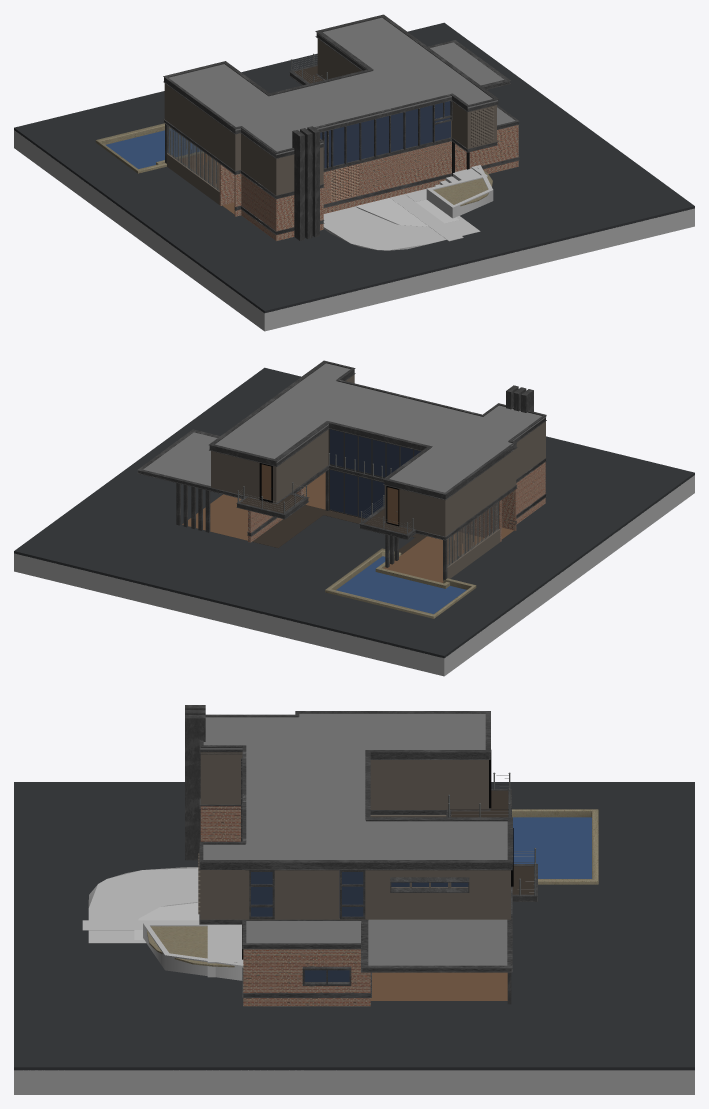
File: pool-villa.lod0.glb
3 views of the same model, one above another, from view 1: azimuth 30°, elevation 25°; view 2: azimuth 150°, elevation 25°; view 3: azimuth 270°, elevation 25° (orthographic). The views are drawn at different scales.
Visible parts, largest first — view 1: Rectangle001_Material #26_0, Box001_Material #8_0, Line001_Material #1_0, Line064_Material #3_0, Cylinder001_Material #7_0; view 2: Rectangle001_Material #26_0, Box001_Material #8_0, Line001_Material #1_0, Line064_Material #3_0, Cylinder001_Material #7_0; view 3: Rectangle001_Material #26_0, Box001_Material #8_0, Line001_Material #1_0, Line064_Material #3_0.
Part boxes in pixels (x1,y1,x2,y2): Rectangle001_Material #26_0: (14,17,694,331); Box001_Material #8_0: (163,14,519,240); Line001_Material #1_0: (219,125,518,240); Line064_Material #3_0: (95,123,492,206); Cylinder001_Material #7_0: (168,53,456,190); Rectangle001_Material #26_0: (14,363,694,676); Box001_Material #8_0: (137,360,546,580); Line001_Material #1_0: (248,462,545,542); Line064_Material #3_0: (325,548,476,618); Cylinder001_Material #7_0: (237,453,498,566); Rectangle001_Material #26_0: (14,713,694,1094); Box001_Material #8_0: (185,705,537,1004); Line001_Material #1_0: (200,806,370,1006); Line064_Material #3_0: (147,809,598,967).
Bounding box in the file's own units: 34.7 × 9.62 × 35.
Materials: 6 (4 with a texture image).
